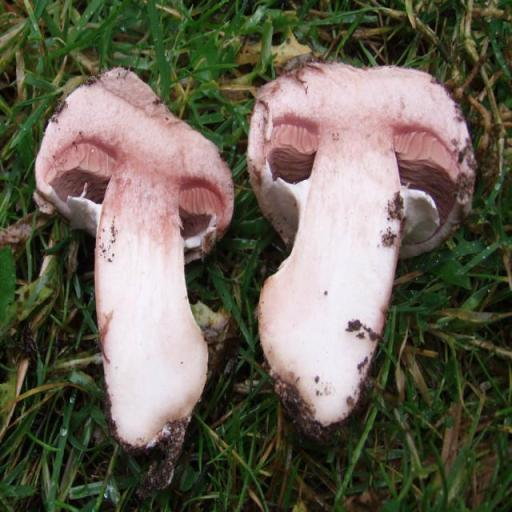Button Mushroom: (249, 64, 475, 429), (38, 67, 234, 476)
